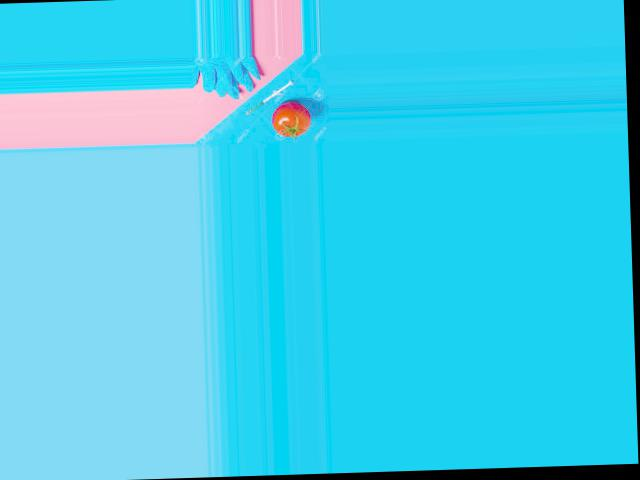tomato: (271, 100, 310, 136)
